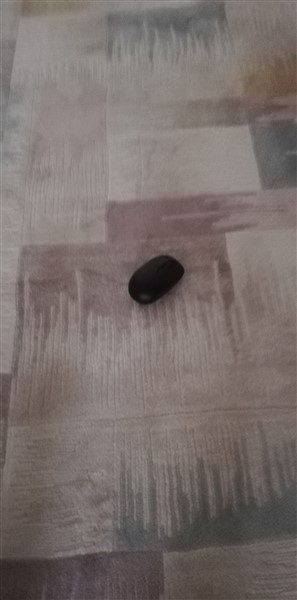mouse: (122, 251, 192, 311)
